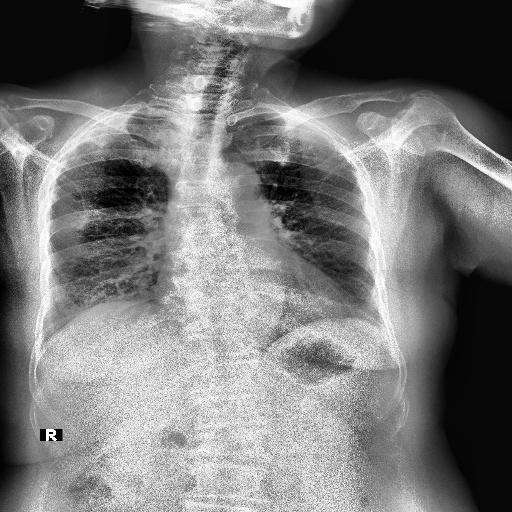0- Aortic enlargement: (209, 162, 269, 218), (198, 162, 262, 214), (202, 160, 263, 204)
11- Pleural thickening: (76, 106, 152, 146), (72, 114, 112, 152), (72, 122, 98, 147)
3- Cardiomegaly: (152, 260, 362, 334), (153, 268, 353, 322), (152, 282, 350, 329)
